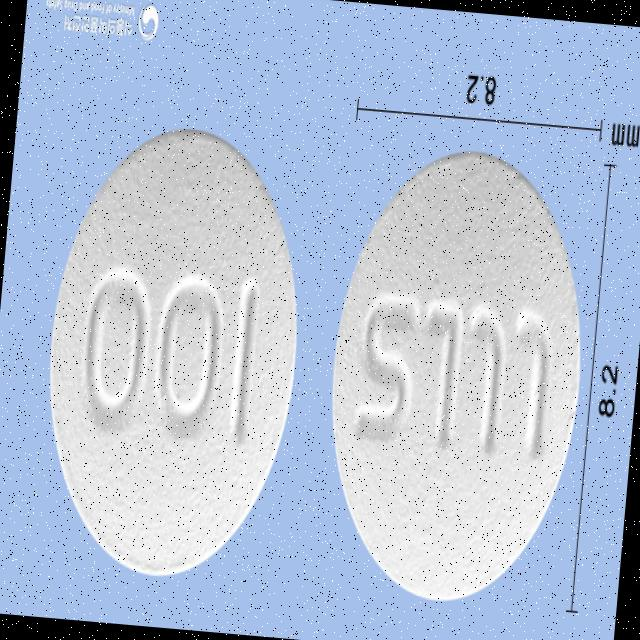Highloxin - 500mg: (311, 142, 600, 613), (28, 118, 314, 590)
